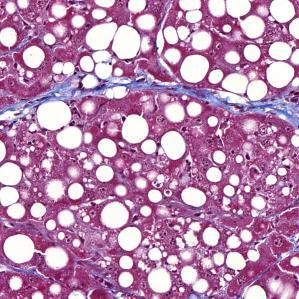fibrosis: (62, 73, 188, 111)
